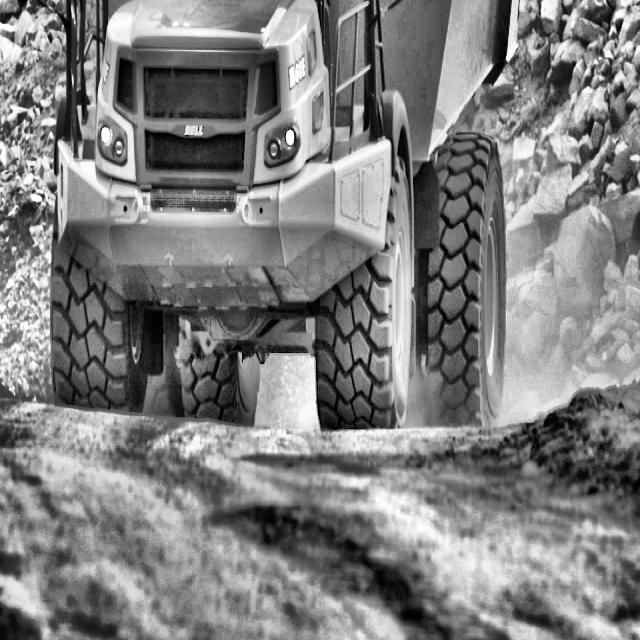dump_truck: (0, 0, 559, 460)
